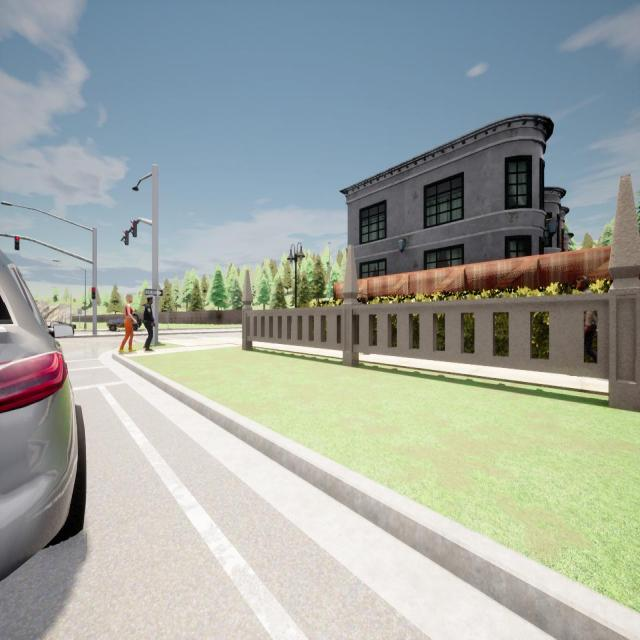Pedestrian: (118, 294, 136, 353), (142, 296, 156, 351)
Traffic_Signs: (145, 289, 163, 296), (78, 308, 82, 315)
Vehicle: (0, 251, 86, 579), (107, 314, 141, 331), (45, 319, 77, 331)
traffic_light: (131, 220, 137, 238), (122, 230, 129, 245), (14, 236, 20, 251), (92, 287, 95, 299)
